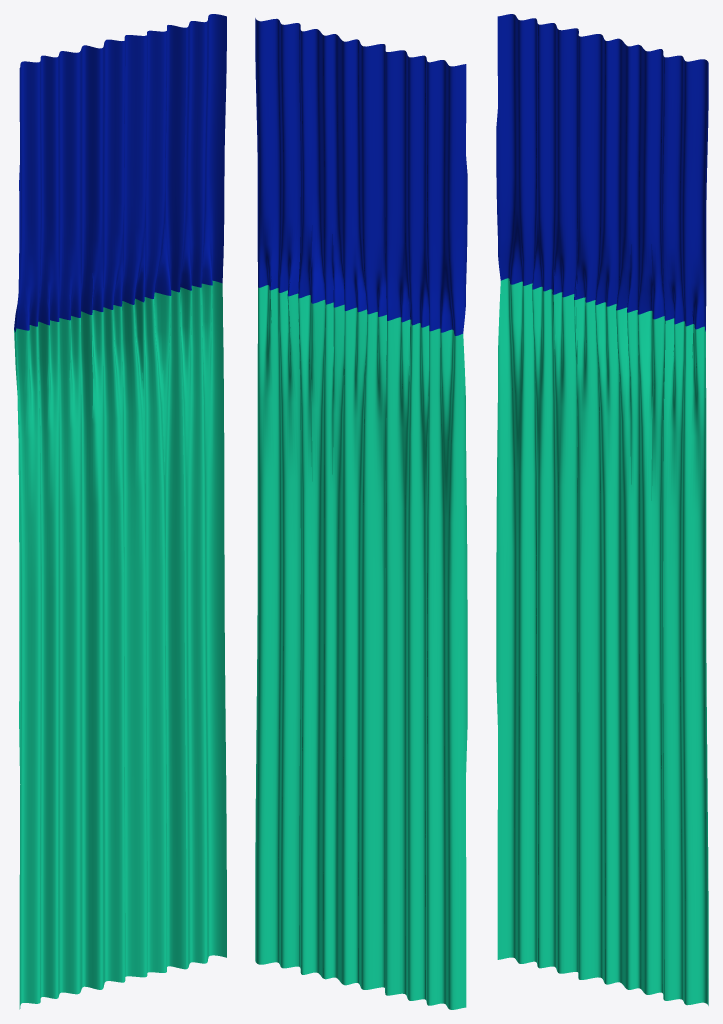
Rendered from curtain.FBX.
The picture shows the model from 3 angles, left to right: view 1: azimuth 30°, elevation 25°; view 2: azimuth 150°, elevation 25°; view 3: azimuth 330°, elevation 25°; orthographic projection.
Visible parts, largest first — view 1: curtain; view 2: curtain; view 3: curtain.
Part boxes in pixels (x1,y1,x2,y2): curtain: (14,14,226,1009); curtain: (255,18,467,1009); curtain: (496,14,708,1005).
Size of the model in its own units: 648 by 2778 by 58.8.
